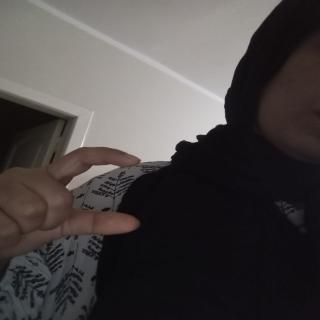DELL: (0, 134, 160, 270)
